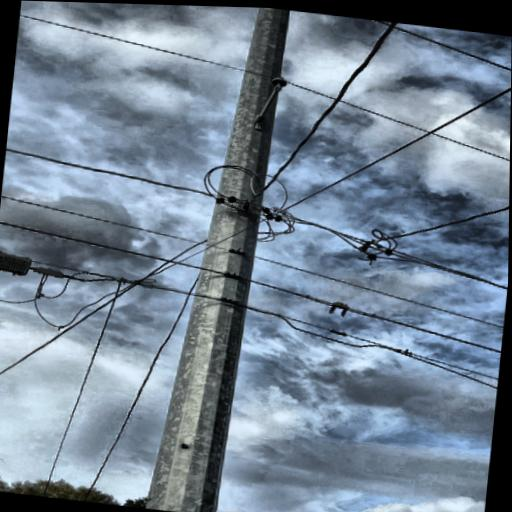pole: (123, 4, 308, 512)
